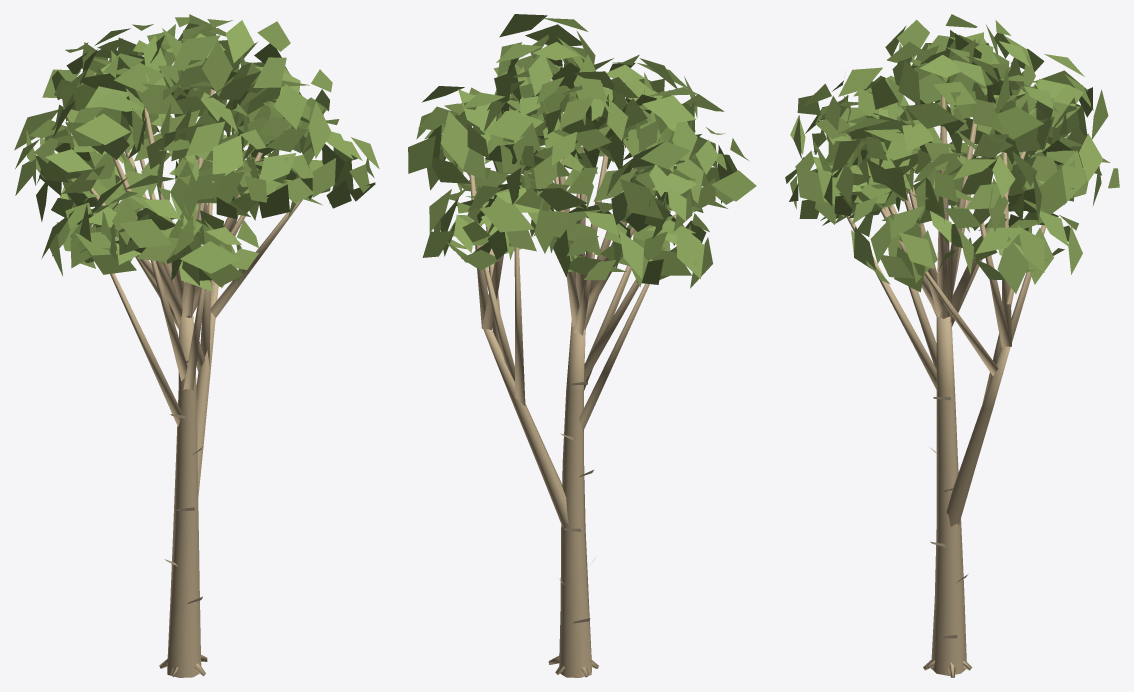
The model's file is birch-twin-lod1.glb.
3 renders of one model, left to right at view 1: azimuth 30°, elevation 25°; view 2: azimuth 150°, elevation 25°; view 3: azimuth 270°, elevation 25°, orthographic. The views are drawn at different scales.
Visible parts, largest first — view 1: tree_birch-twin_LOD1; view 2: tree_birch-twin_LOD1; view 3: tree_birch-twin_LOD1.
Boxes of the visible parts, x1,y1,x2,y2 form: tree_birch-twin_LOD1: [14, 14, 379, 677]; tree_birch-twin_LOD1: [408, 14, 756, 677]; tree_birch-twin_LOD1: [785, 14, 1119, 677].
Size of the model in its own units: 5.86 by 11.95 by 5.68.
